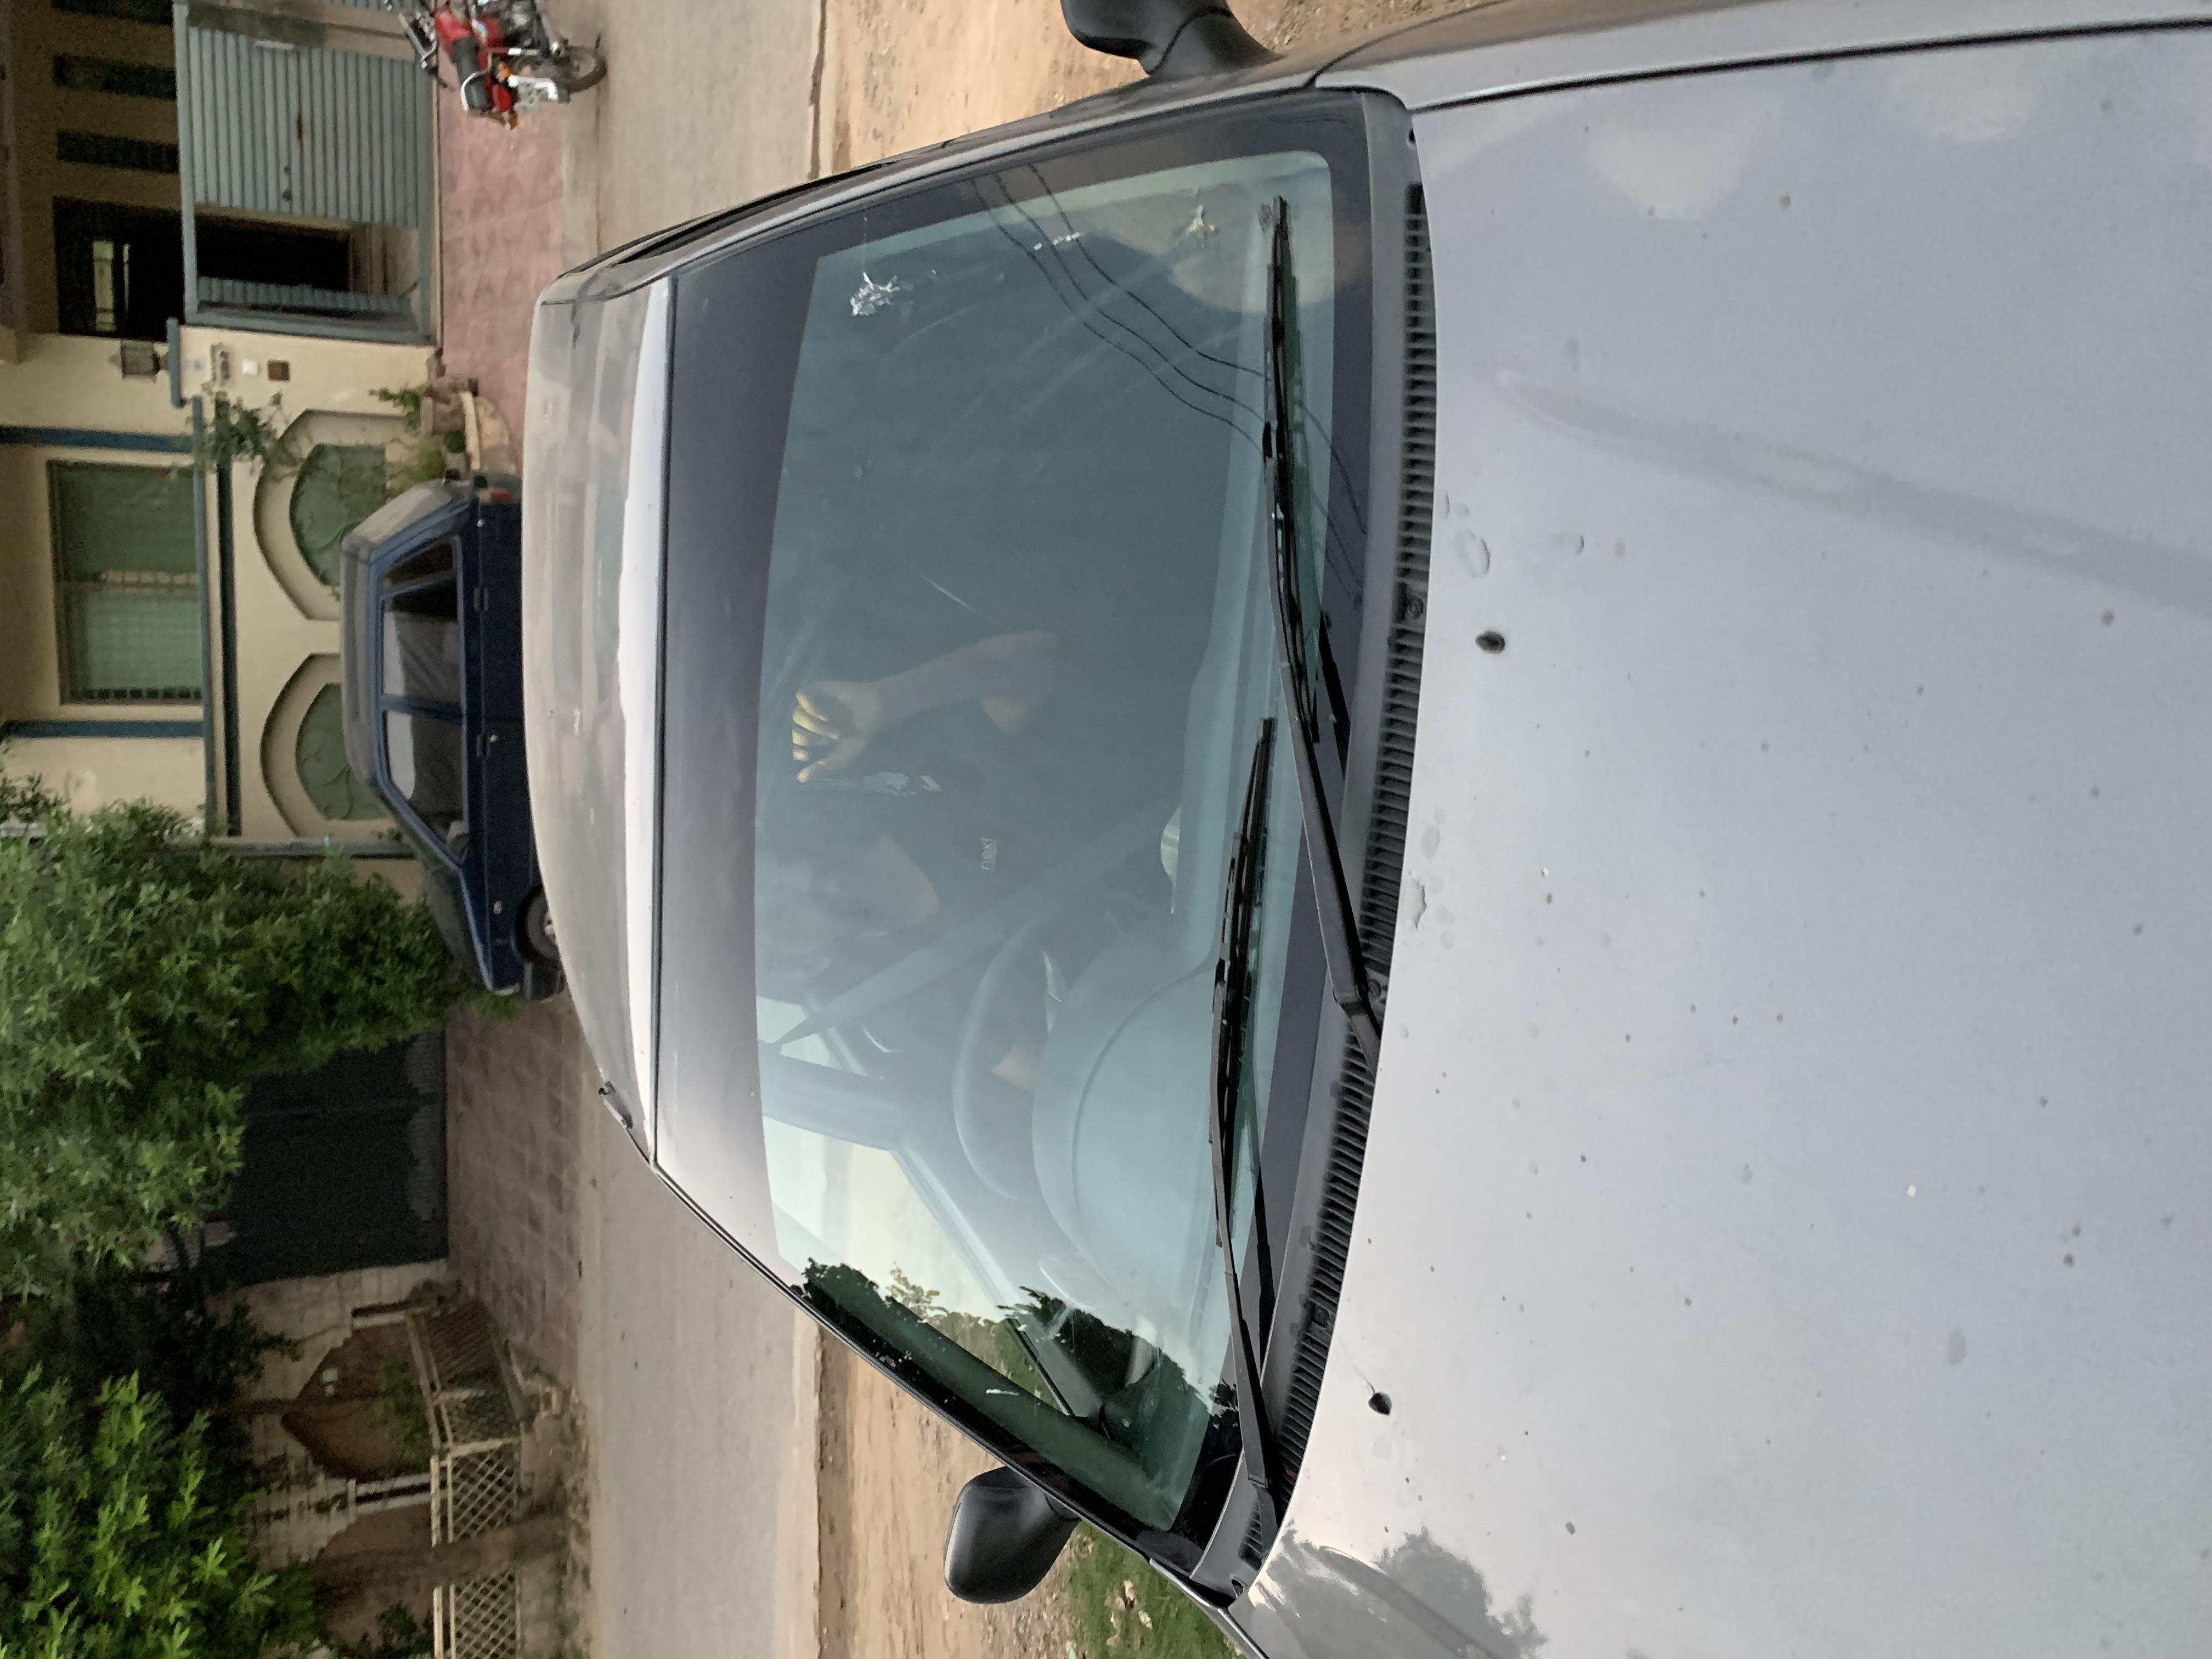windshield: (89, 498, 2057, 1012)
